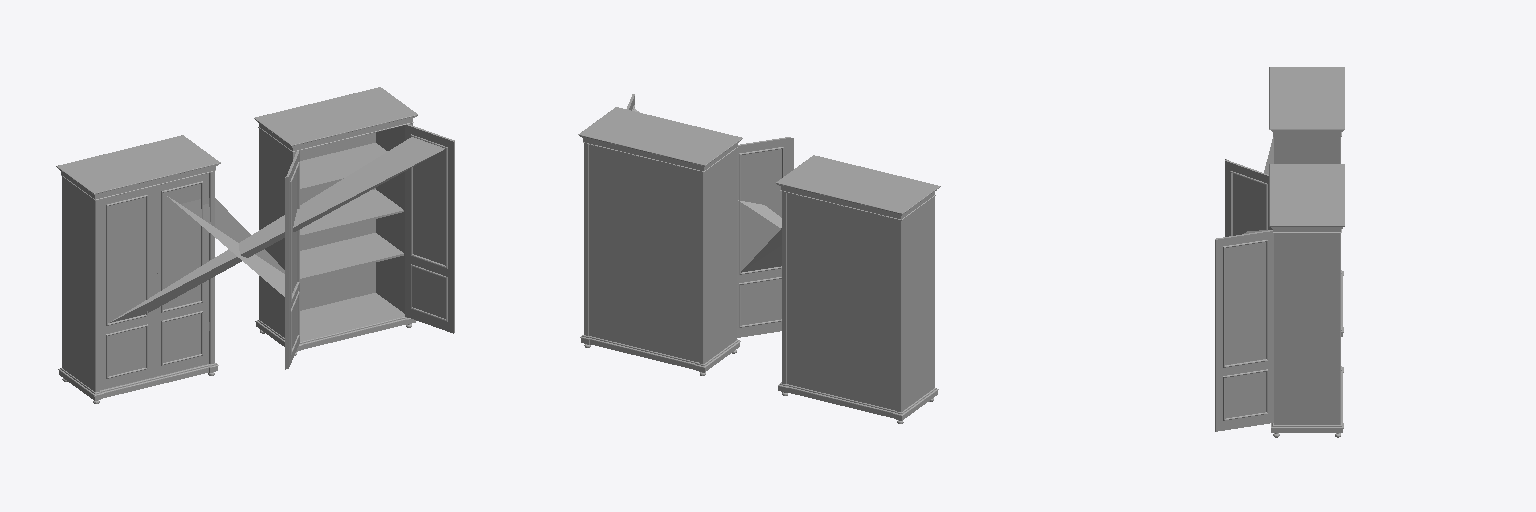
The picture shows the model from 3 angles: view 1: azimuth 30°, elevation 25°; view 2: azimuth 150°, elevation 25°; view 3: azimuth 270°, elevation 25°; orthographic projection.
Visible parts, largest first — view 1: rdmobj00, 0001_object_1; view 2: rdmobj00, 0001_object_1; view 3: rdmobj00, 0001_object_1.
Part boxes in pixels (bbox=[...]): rdmobj00: bbox=[56, 87, 454, 403]; 0001_object_1: bbox=[108, 137, 445, 322]; rdmobj00: bbox=[578, 94, 940, 423]; 0001_object_1: bbox=[633, 108, 781, 272]; rdmobj00: bbox=[1215, 67, 1344, 437]; 0001_object_1: bbox=[1225, 137, 1273, 364].
Bounding box in the file's own units: 339 × 207 × 114.